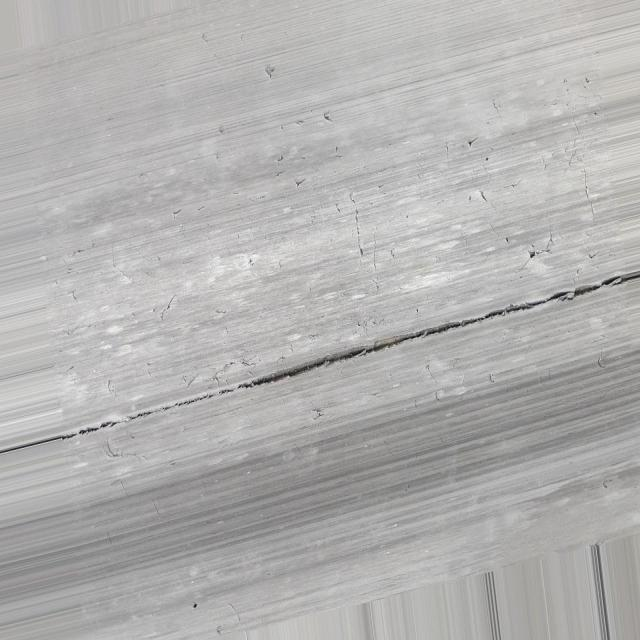Puncture: (467, 137, 477, 149), (528, 251, 535, 258), (193, 603, 196, 607)
Tear: (65, 270, 626, 443)
